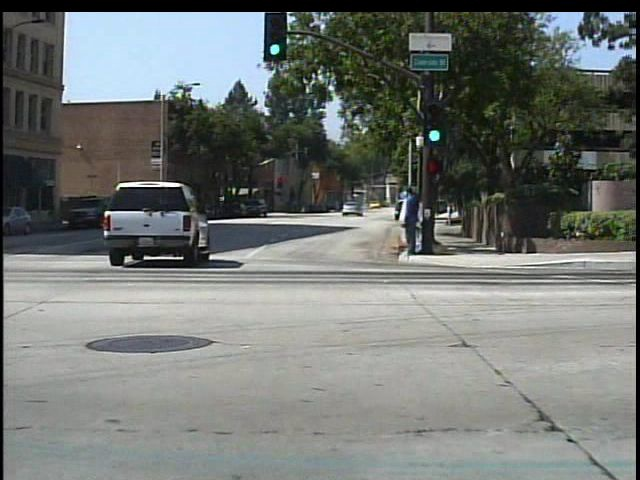person: (401, 184, 423, 256), (398, 190, 418, 256), (297, 200, 310, 215)
